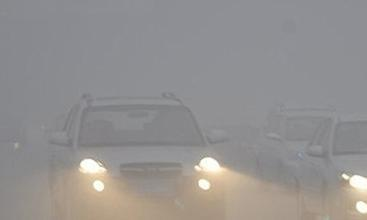car: (47, 90, 226, 220), (252, 103, 355, 205), (287, 112, 367, 220)
